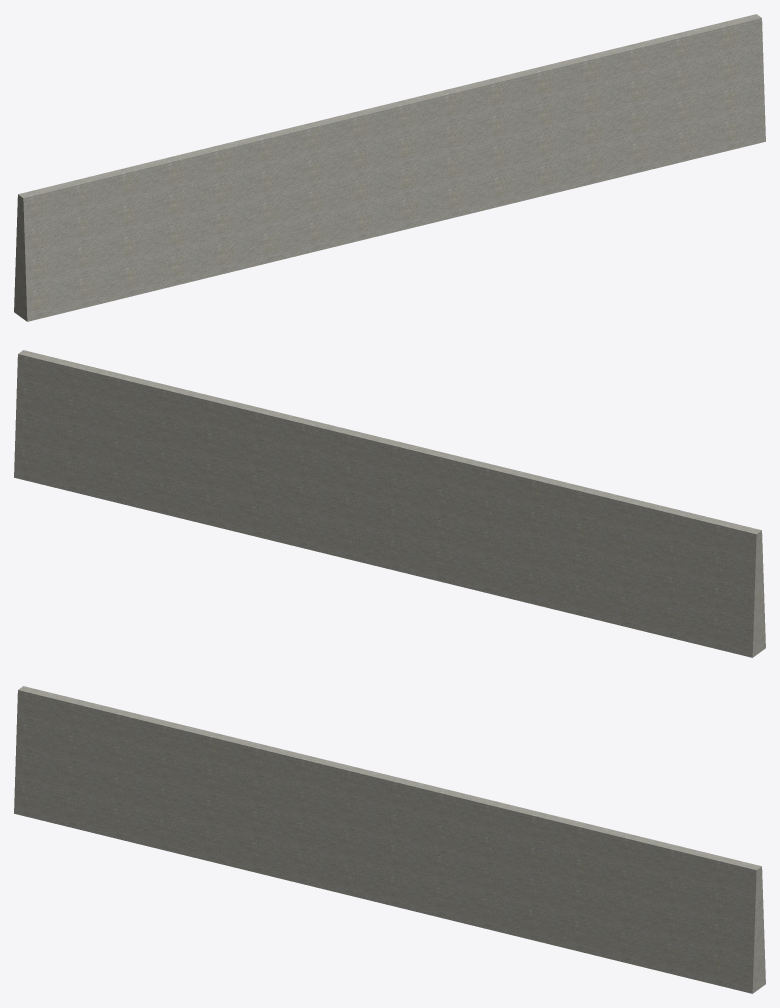
Rendered from thm_corl_imprv_wall_4x32_s04_l1.fbx.
The picture shows the model from 3 angles, top to bottom: view 1: azimuth 30°, elevation 25°; view 2: azimuth 150°, elevation 25°; view 3: azimuth 330°, elevation 25°; orthographic projection.
Parts seen in each view (by area): view 1: mesh_node; view 2: mesh_node; view 3: mesh_node.
Boxes of the visible parts, left/top/right/bottom form: mesh_node: left=14, top=14, right=765, bottom=321; mesh_node: left=14, top=350, right=765, bottom=657; mesh_node: left=14, top=686, right=765, bottom=993.
Bounding box in the file's own units: 32 × 5 × 1.
Materials: 1 (1 with a texture image).
